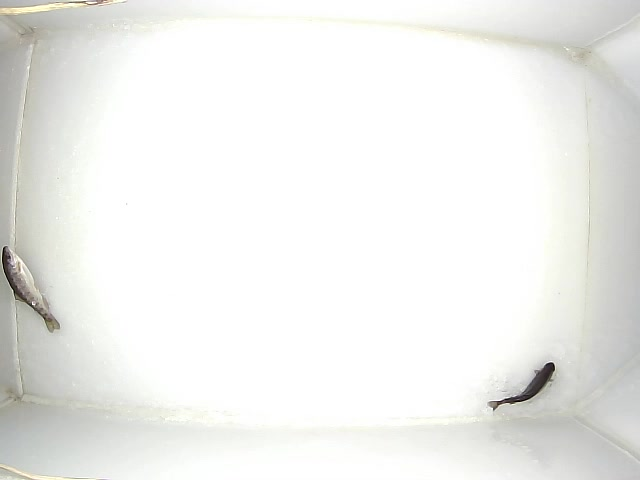fish: (2, 246, 60, 333), (487, 362, 555, 412)
